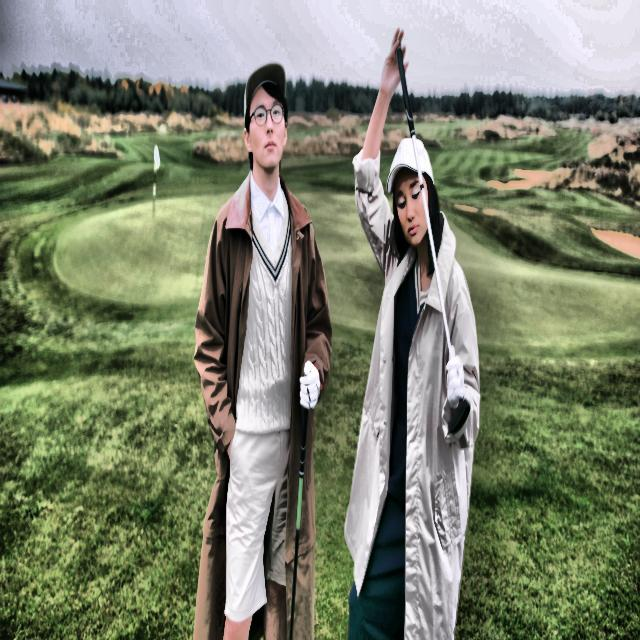gloved: (438, 348, 477, 419), (293, 353, 328, 416)
not-gloved: (373, 18, 418, 119)
